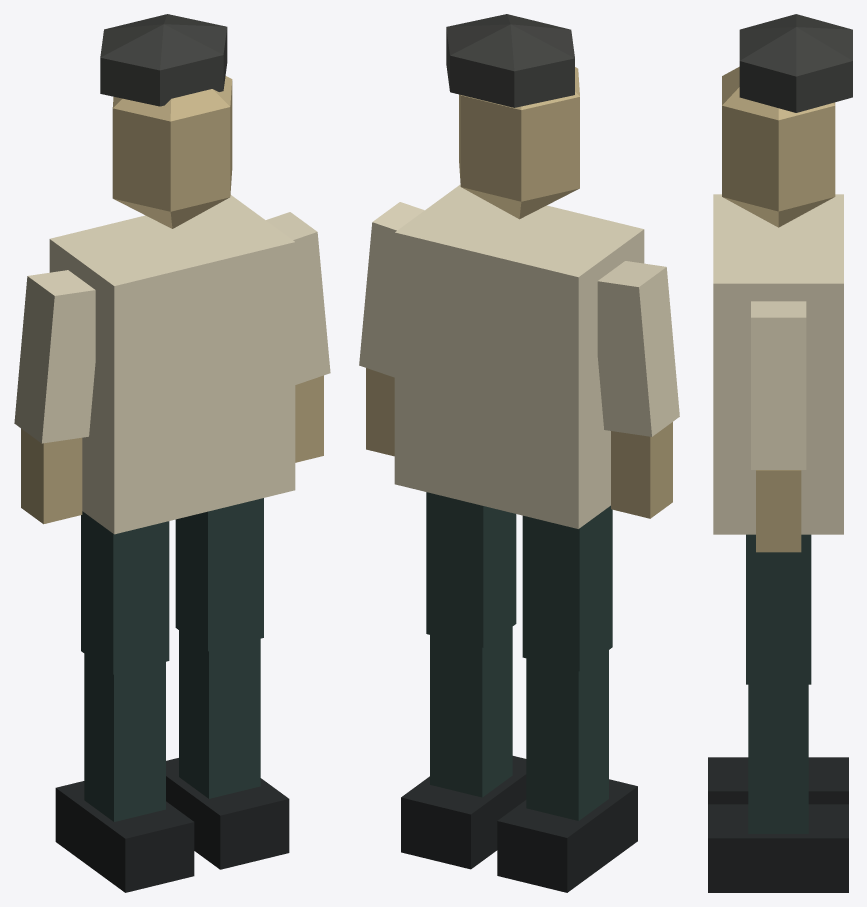
The model's file is TownResident0.obj.
3 views of the same model, side by side, from view 1: azimuth 30°, elevation 25°; view 2: azimuth 150°, elevation 25°; view 3: azimuth 270°, elevation 25° (orthographic).
Visible parts, largest first — view 1: TownResident0; view 2: TownResident0; view 3: TownResident0.
Part boxes in pixels (bbox=[...]): TownResident0: bbox=[14, 14, 330, 892]; TownResident0: bbox=[359, 14, 679, 892]; TownResident0: bbox=[708, 14, 852, 892].
Bounding box in the file's own units: 0.6695 × 1.81 × 0.2875.
Materials: 1 (1 with a texture image).
